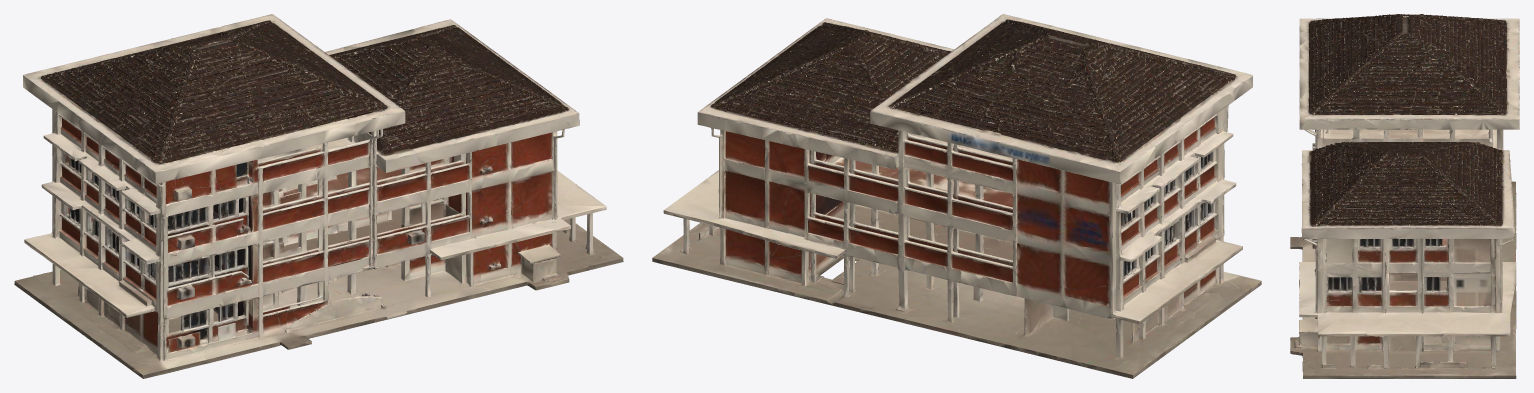
File: FEBE_building.glb
3 views of the same model, side by side, from view 1: azimuth 30°, elevation 25°; view 2: azimuth 150°, elevation 25°; view 3: azimuth 270°, elevation 25° (orthographic). The views are drawn at different scales.
Parts seen in each view (by area): view 1: Meshy_AI_Bangunan_Dato_Kum_Bo_0814103203_texture.001; view 2: Meshy_AI_Bangunan_Dato_Kum_Bo_0814103203_texture.001; view 3: Meshy_AI_Bangunan_Dato_Kum_Bo_0814103203_texture.001.
Boxes of the visible parts, bbox=[...] form: Meshy_AI_Bangunan_Dato_Kum_Bo_0814103203_texture.001: bbox=[14, 14, 623, 378]; Meshy_AI_Bangunan_Dato_Kum_Bo_0814103203_texture.001: bbox=[652, 14, 1261, 378]; Meshy_AI_Bangunan_Dato_Kum_Bo_0814103203_texture.001: bbox=[1290, 14, 1519, 378].
Size of the model in its own units: 1.9 by 0.9825 by 0.9508.
Materials: 1 (1 with a texture image).
